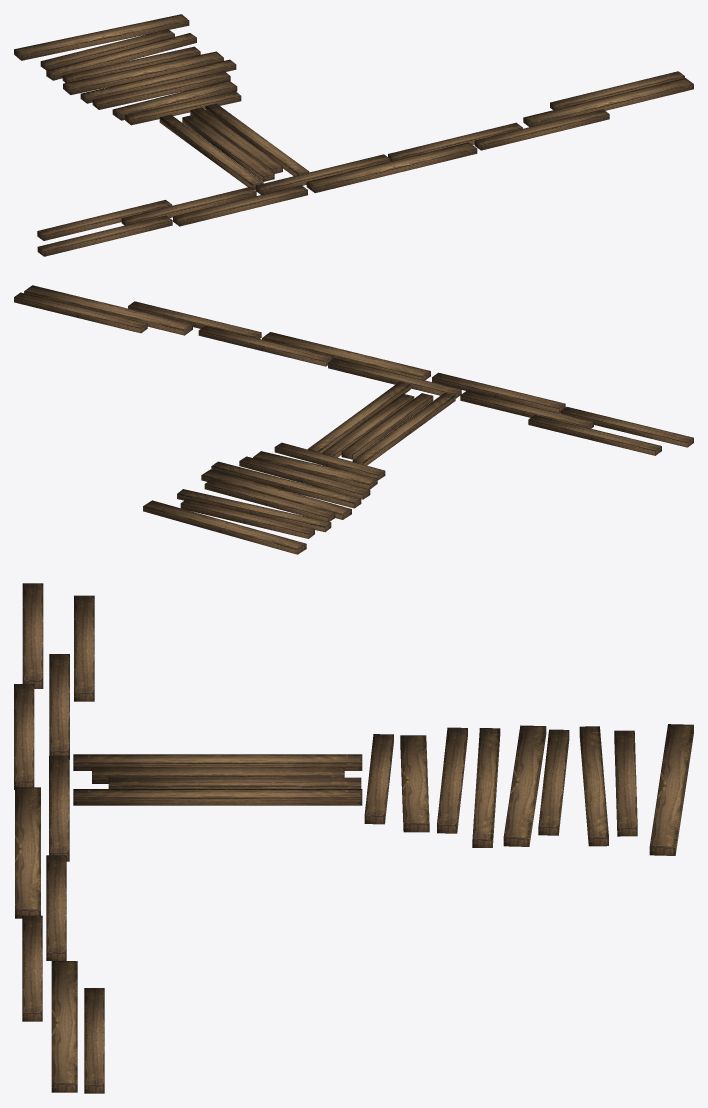
Rendered from Plank_08.fbx.
3 renders of one model, top to bottom at view 1: azimuth 30°, elevation 25°; view 2: azimuth 150°, elevation 25°; view 3: azimuth 270°, elevation 25°, orthographic. The views are drawn at different scales.
Parts seen in each view (by area): view 1: Plank_08; view 2: Plank_08; view 3: Plank_08.
Boxes of the visible parts, box(x1,y1,x2,y2) form: Plank_08: box(14, 14, 693, 256); Plank_08: box(14, 285, 693, 554); Plank_08: box(14, 583, 693, 1093).
Size of the model in its own units: 5.03 by 0.0485 by 2.88.
